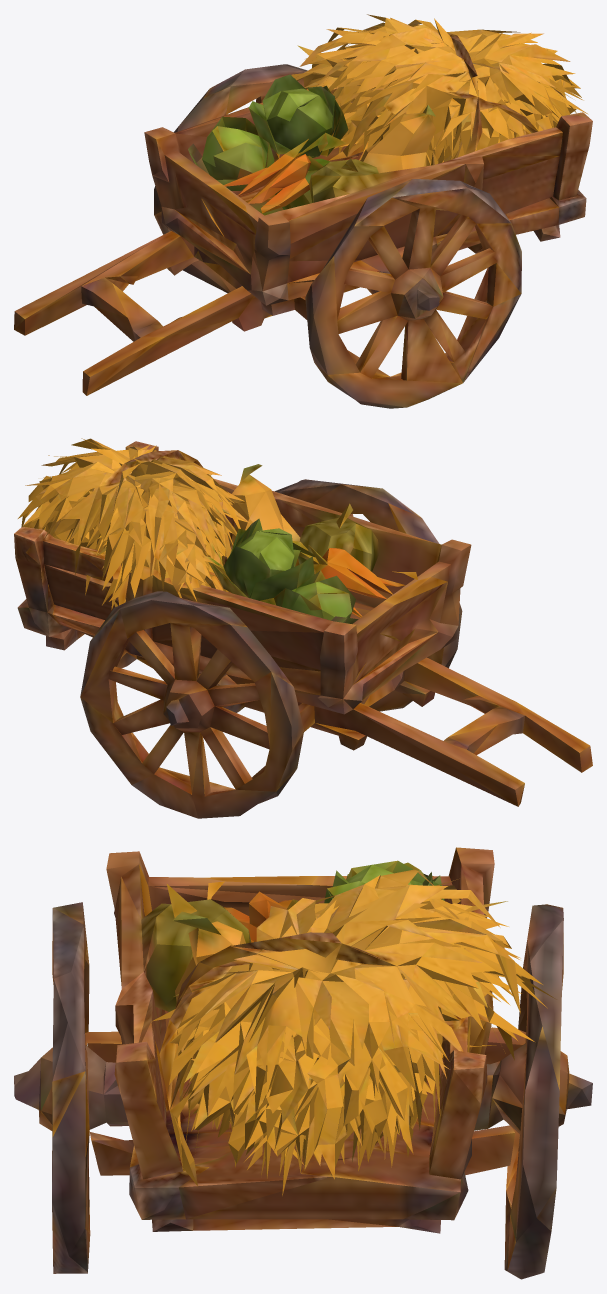
File: prop_cart.glb
3 renders of one model, top to bottom at view 1: azimuth 30°, elevation 25°; view 2: azimuth 150°, elevation 25°; view 3: azimuth 270°, elevation 25°, orthographic. The views are drawn at different scales.
Visible parts, largest first — view 1: output_unwrapped; view 2: output_unwrapped; view 3: output_unwrapped.
Part boxes in pixels (x1,y1,x2,y2): output_unwrapped: (14,14,592,408); output_unwrapped: (14,438,592,818); output_unwrapped: (14,847,592,1279).
Bounding box in the file's own units: 1.87 × 0.9864 × 1.18.
Materials: 1 (1 with a texture image).
